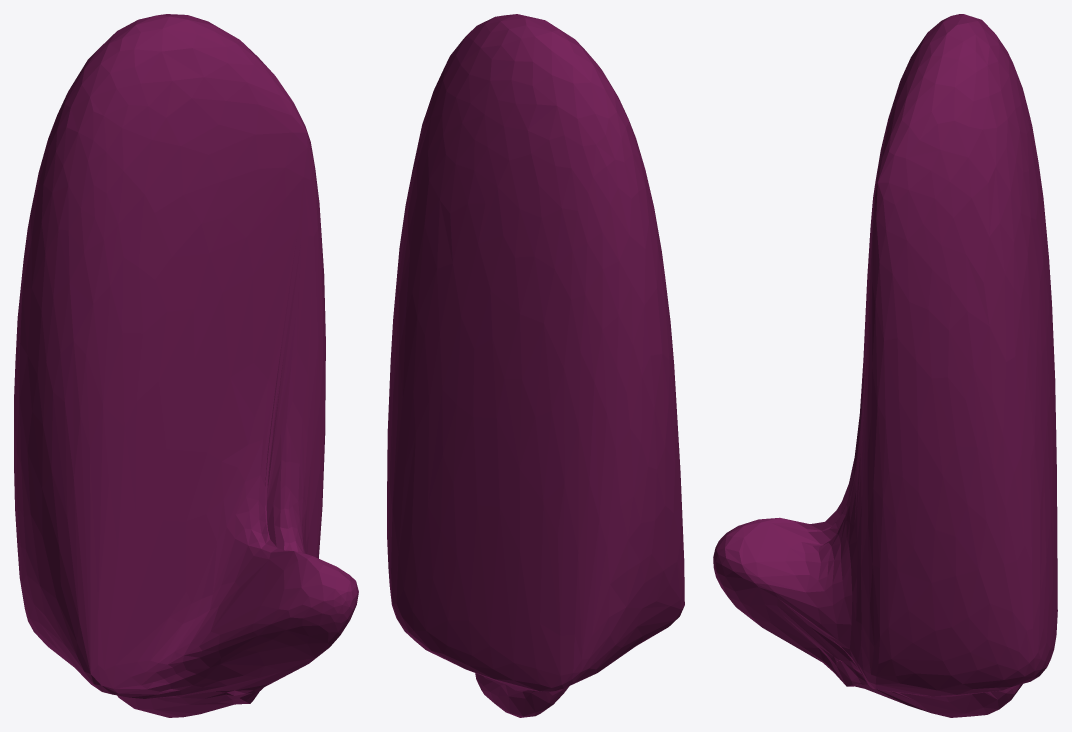
3 renders of one model, left to right at view 1: azimuth 30°, elevation 25°; view 2: azimuth 150°, elevation 25°; view 3: azimuth 270°, elevation 25°, orthographic.
Parts seen in each view (by area): view 1: 535_Cube.2160; view 2: 535_Cube.2160; view 3: 535_Cube.2160.
Part boxes in pixels (x1=…): 535_Cube.2160: x1=14, y1=14, x2=358, y2=717; 535_Cube.2160: x1=387, y1=14, x2=684, y2=717; 535_Cube.2160: x1=713, y1=14, x2=1057, y2=717.
Size of the model in its own units: 4.93 by 12.22 by 5.49.
